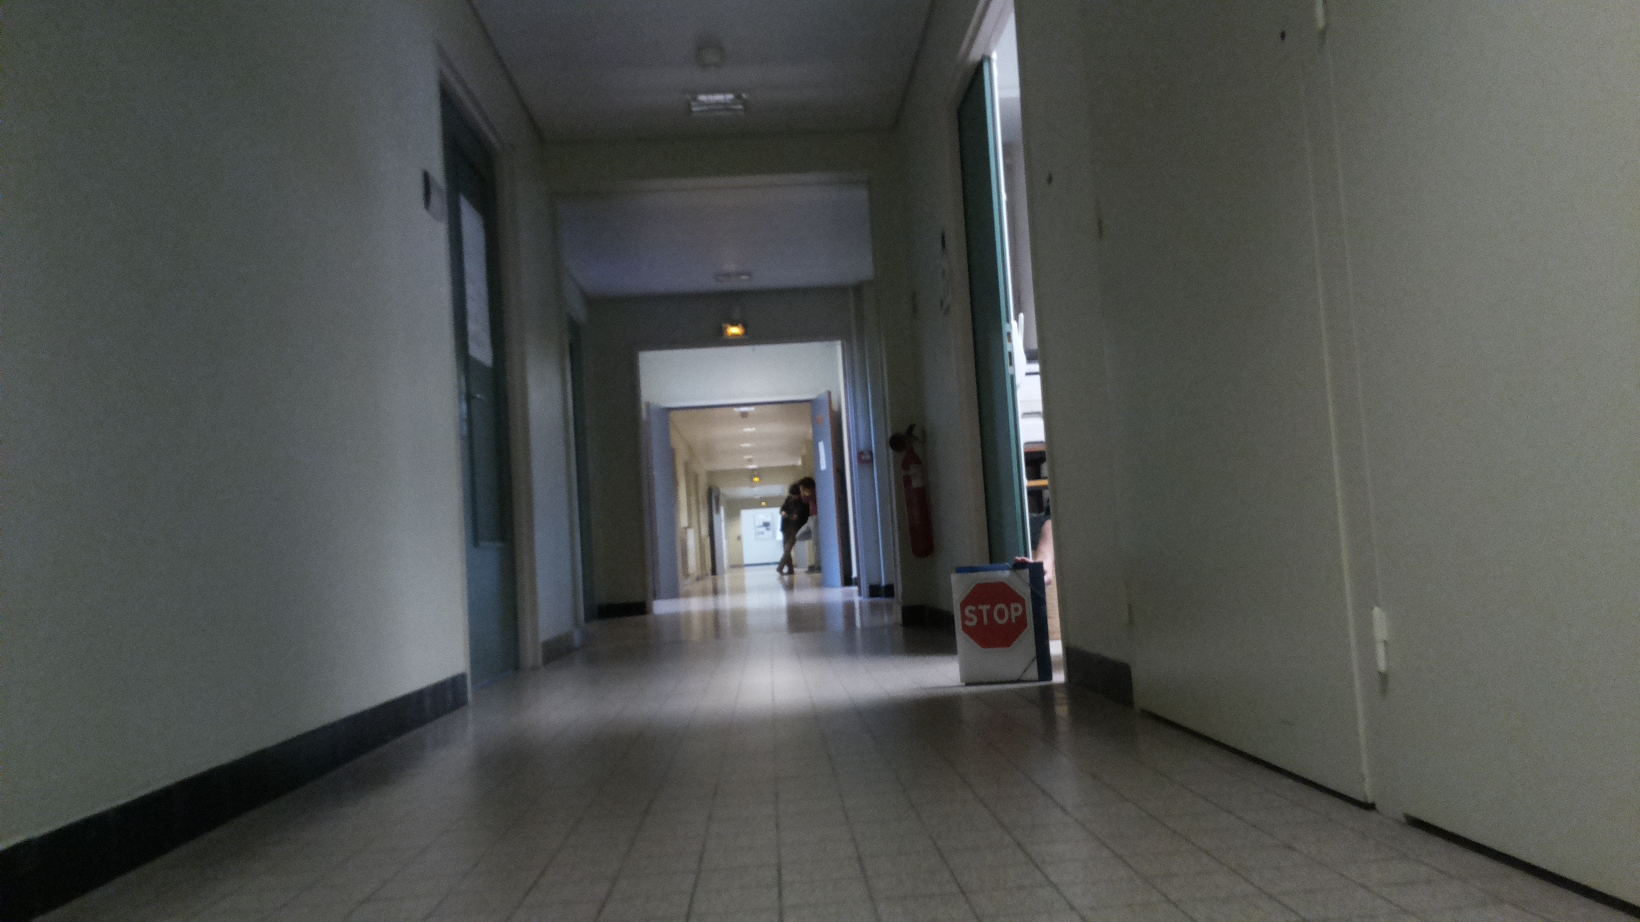stop: (957, 578, 1031, 650)
